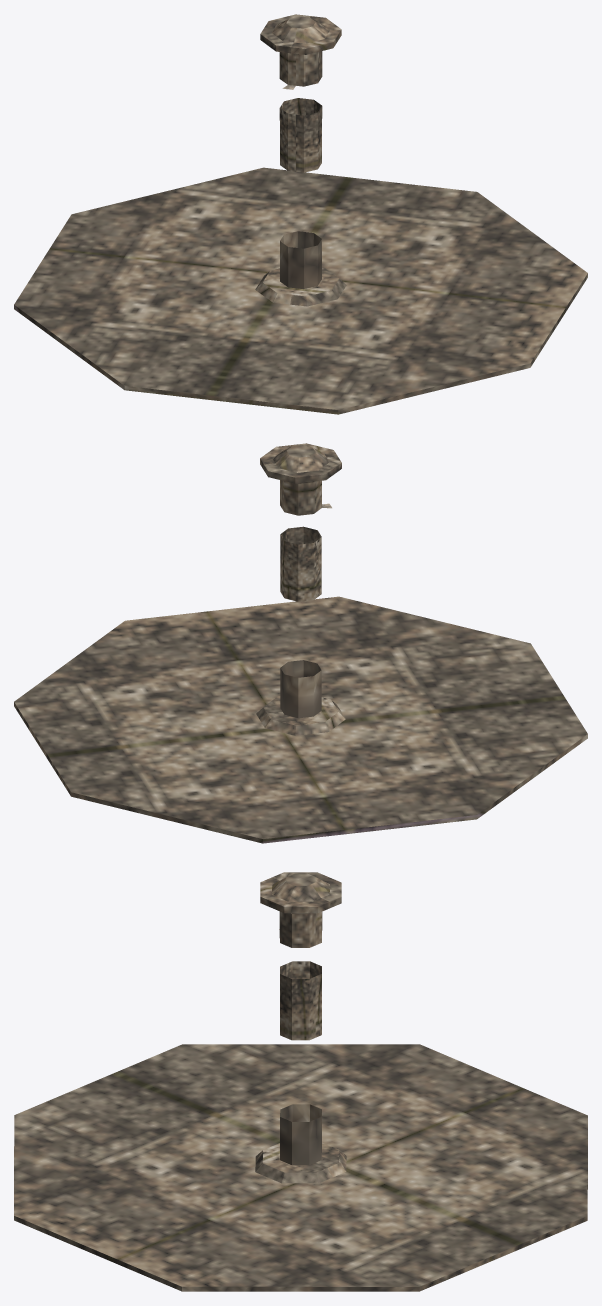
The model's file is f_reel1_part1.fbx.
3 views of the same model, one above another, from view 1: azimuth 30°, elevation 25°; view 2: azimuth 150°, elevation 25°; view 3: azimuth 270°, elevation 25° (orthographic). The views are drawn at different scales.
Visible parts, largest first — view 1: f_freel; view 2: f_freel; view 3: f_freel.
Part boxes in pixels (box(x1,y1,x2,y2)): f_freel: box(14, 14, 587, 414); f_freel: box(14, 443, 587, 843); f_freel: box(14, 872, 587, 1291).
Bounding box in the file's own units: 930 × 519 × 930.
